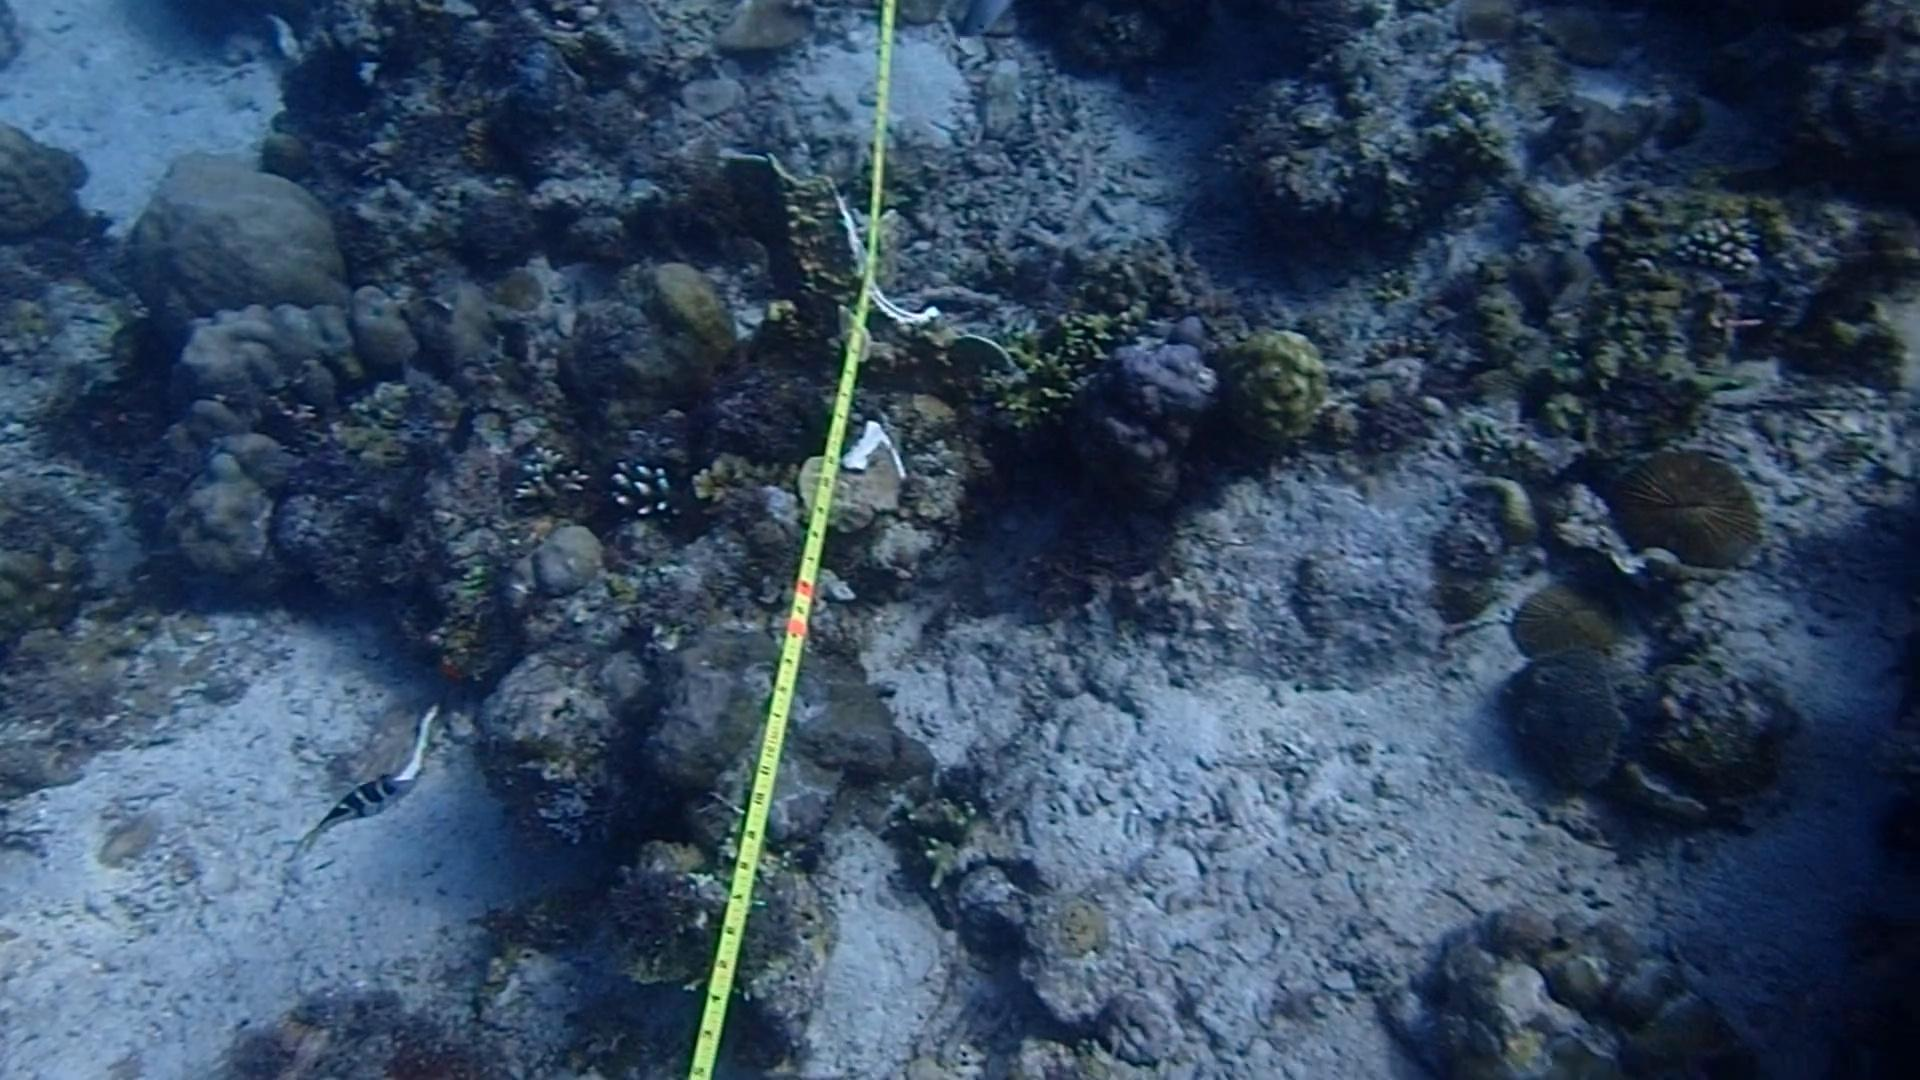Striped Fish: (298, 756, 422, 858)
